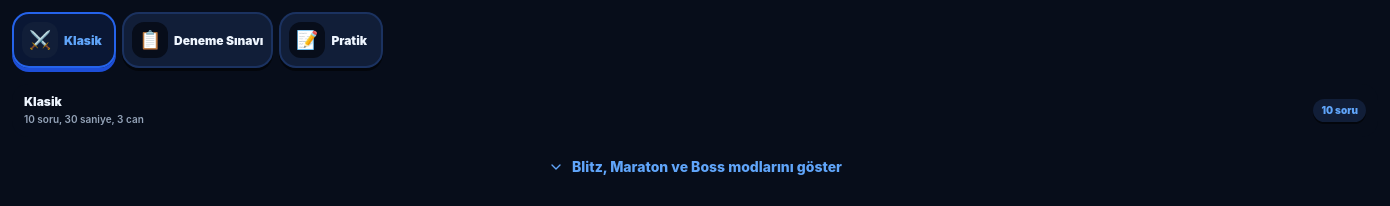
Test case: ModeSelector › ikincil modları kullanıcının isteğiyle açar
Click the button "Blitz, Maraton ve Boss modlarını göster".
click(695, 167)  # box [12,145,1378,189]
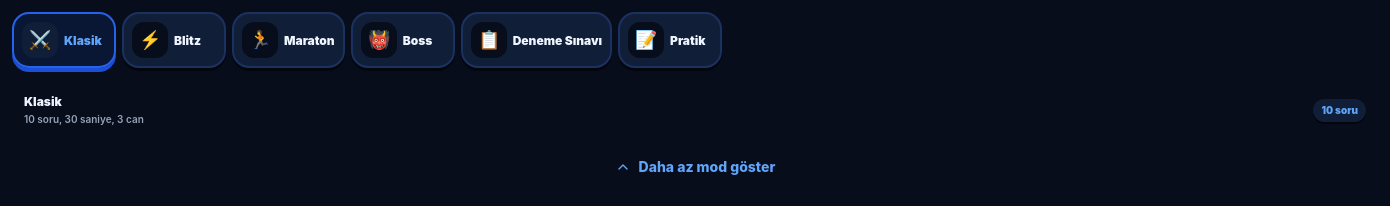
Expected: the button with aria-label "Blitz:" is shown, [122,12,226,68]
Expected: the button with aria-label "Maraton:" is shown, [232,12,345,68]
Expected: the button with aria-label "Boss:" is shown, [351,12,455,68]
